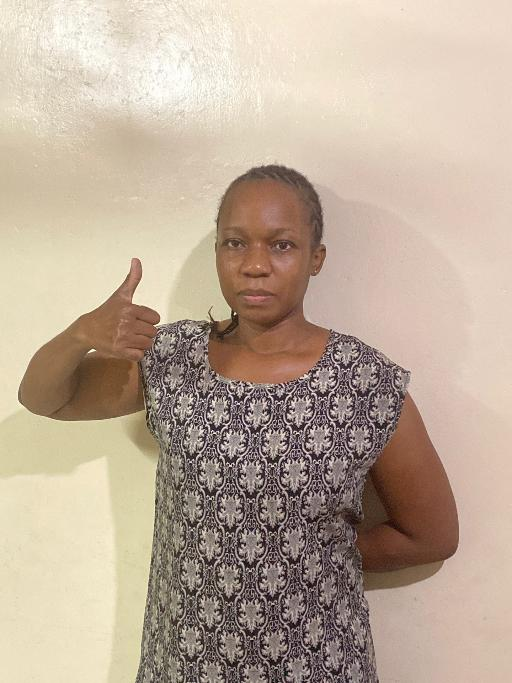like: (84, 254, 163, 364)
